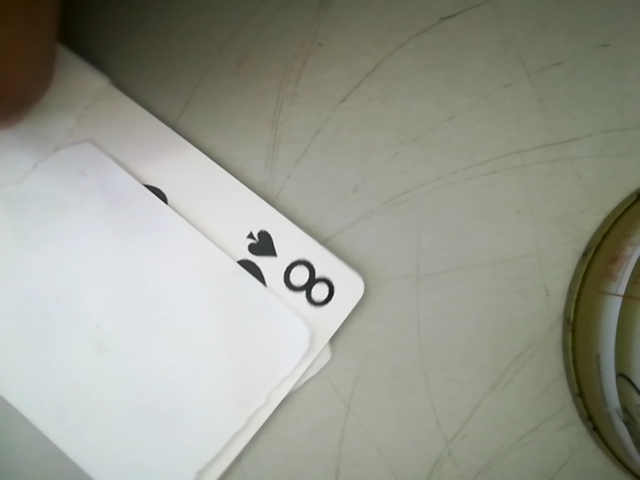ht 8: (227, 219, 354, 314)
